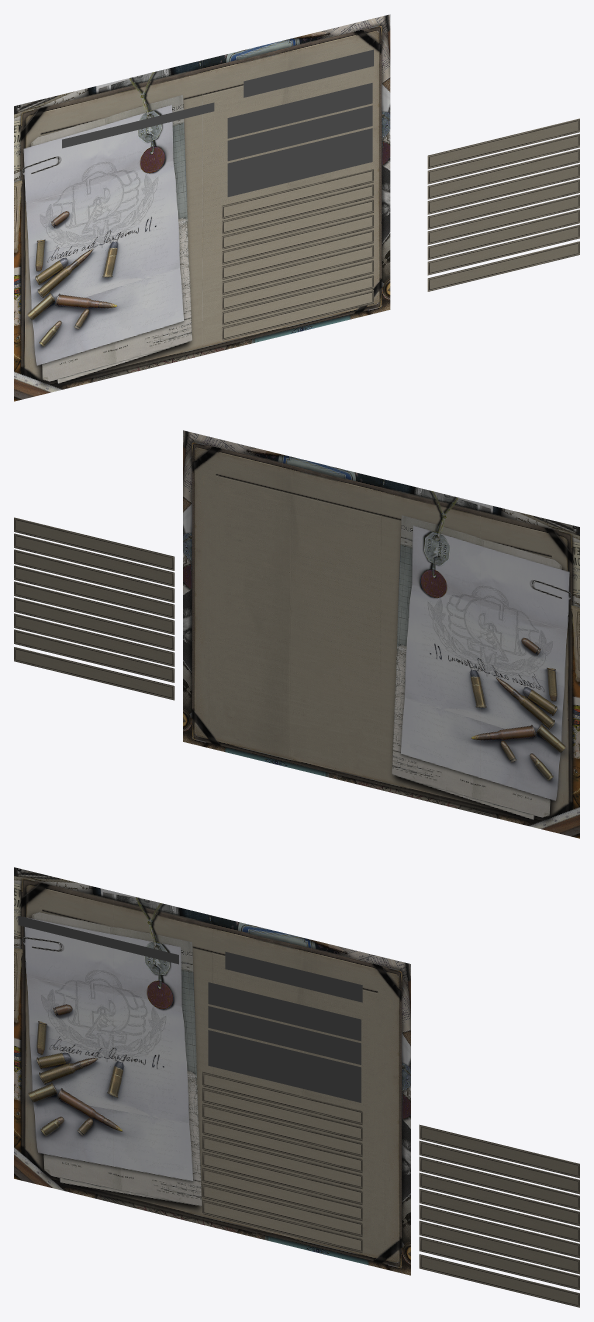
Rendered from MainMenu.fbx.
The picture shows the model from 3 angles, top to bottom: view 1: azimuth 30°, elevation 25°; view 2: azimuth 150°, elevation 25°; view 3: azimuth 330°, elevation 25°; orthographic projection. The views are drawn at different scales.
Visible parts, largest first — view 1: menu1, text_last save01, text_screen, normal00, actived03, normal05, actived00, actived02, actived01, normal01, actived07, normal07 (+15 smaller); view 2: menu1, actived08, actived02, actived01, actived04, actived07, actived03, actived06, actived05, actived00; view 3: menu1, text_last save01, text_screen, actived04, normal04, normal06, actived08, normal05, actived06, normal07, actived03, normal08 (+15 smaller).
Part boxes in pixels (x1,y1,x2,y2): menu1: (14,14,390,401); text_last save01: (227,135,372,196); text_screen: (243,49,373,97); normal00: (221,168,373,219); actived03: (427,164,579,214); normal05: (221,259,373,310); actived00: (427,118,579,169); actived02: (427,149,579,199); actived01: (427,133,579,184); normal01: (221,184,373,234); actived07: (427,241,579,291); normal07: (221,290,373,340); menu1: (183,430,579,838); actived08: (14,581,174,634); actived02: (14,549,174,602); actived01: (14,533,174,586); actived04: (14,597,174,650); actived07: (14,647,174,700); actived03: (14,565,174,618); actived06: (14,629,174,682); actived05: (14,613,174,666); actived00: (14,517,174,570); menu1: (14,867,410,1275); text_last save01: (208,1037,361,1102); text_screen: (225,951,362,1002); actived04: (419,1204,579,1258); normal04: (202,1151,362,1205); normal06: (202,1183,362,1237); actived08: (419,1188,579,1242); normal05: (202,1167,362,1221); actived06: (419,1236,579,1290); normal07: (202,1199,362,1253); actived03: (419,1172,579,1226); normal08: (202,1135,362,1189).
Bounding box in the file's own units: 146 × 75 × 10.09.
